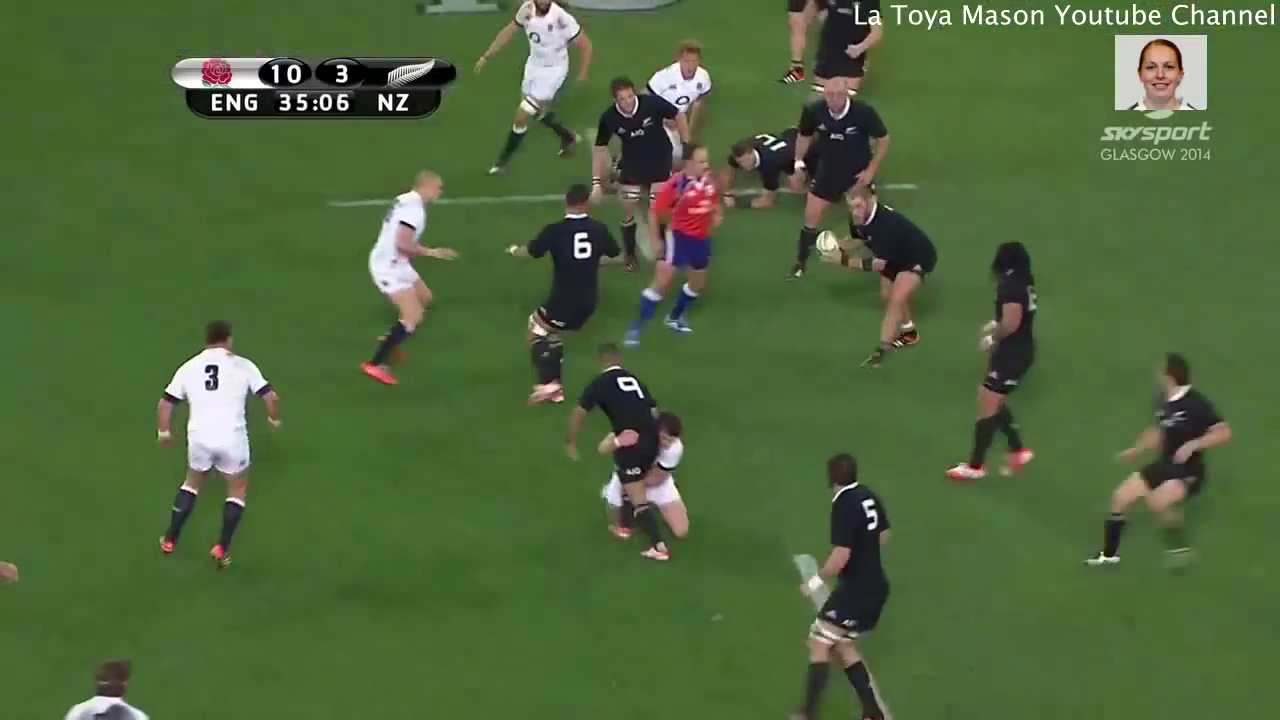ball: (805, 220, 843, 270)
player: (1074, 344, 1248, 582), (146, 304, 291, 577), (775, 443, 907, 720), (933, 228, 1044, 486), (504, 177, 621, 405), (350, 159, 462, 392), (616, 135, 728, 358), (567, 338, 669, 581), (821, 181, 950, 364), (778, 71, 897, 264), (472, 1, 593, 182), (572, 70, 683, 236), (717, 111, 802, 212), (625, 38, 726, 118), (801, 1, 886, 93), (642, 420, 703, 535)
